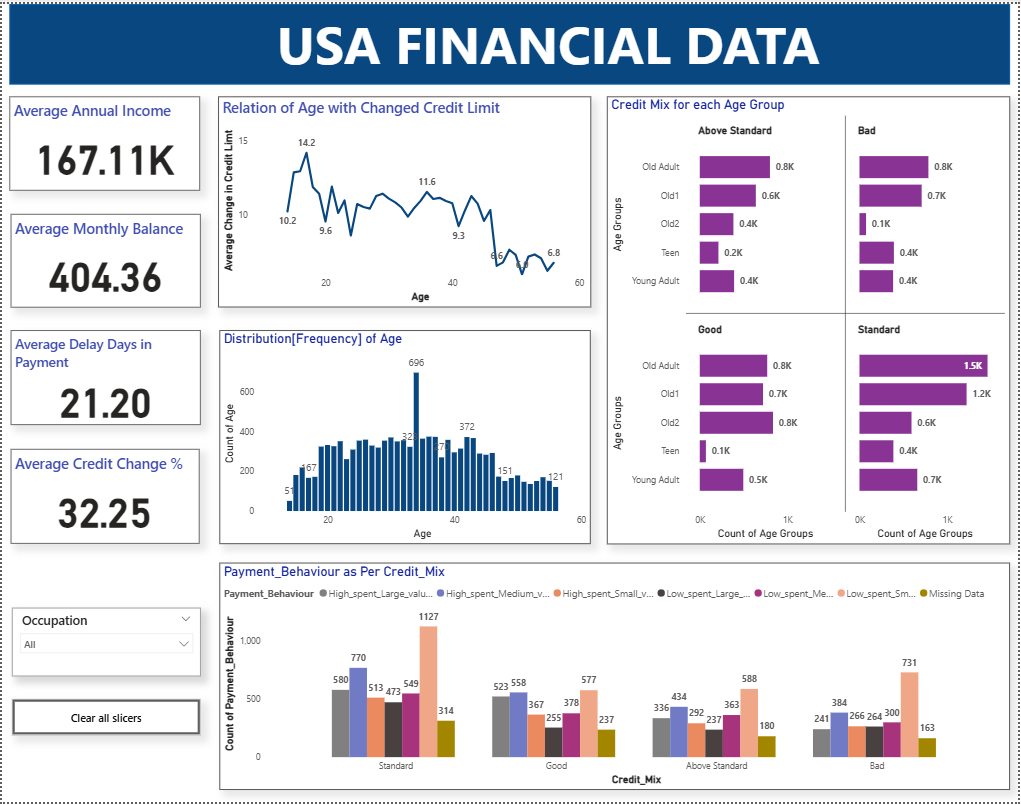

The page's visual inventory and layout, read from the dashboard file:
{"tool":"powerbi","page":{"name":"Page 1","canvas":[1400,1100],"ordinal":0},"visuals":[{"type":"shape","box":[10.8,0,1378.4,110.8],"z":0},{"type":"textbox","box":[374.3,0,790.5,110.8],"z":1000},{"type":"card","title":"Average Annual Income","fields":{"Values":["Avg(combined_df.Annual_Income)"]},"box":[10.8,127,262.2,129.7],"z":2000},{"type":"card","title":"Average Monthly Balance","fields":{"Values":["Avg(combined_df.Monthly_Balance)"]},"box":[11.2,288.9,261.6,128.9],"z":3000},{"type":"card","title":"Average Delay Days in Payment","fields":{"Values":["Avg(combined_df.Delay_from_due_date)"]},"box":[11.2,449.9,261.6,130.8],"z":4000},{"type":"card","title":"Average Credit Change %","fields":{"Values":["Avg(combined_df.Credit_Utilization_Ratio)"]},"box":[11.2,612.8,259.7,130.8],"z":5000},{"type":"lineChart","title":"Relation of Age with Changed Credit Limit","fields":{"Category":["combined_df.Age"],"Y":["Avg(combined_df.Changed_Credit_Limit)"]},"box":[298.1,126.9,513.5,290.4],"z":6000},{"type":"clusteredColumnChart","title":"Distribution[Frequency] of Age","fields":{"Category":["combined_df.Age"],"Y":["CountNonNull(combined_df.Age)"]},"box":[300,450,511.5,294.2],"z":7000},{"type":"clusteredBarChart","title":"Credit Mix for each Age Group","fields":{"Category":["combined_df.Age Groups"],"Y":["CountNonNull(combined_df.Age Groups)"],"Rows":["combined_df.Credit_Mix"]},"box":[833.3,127.8,555.6,616.7],"z":8000},{"type":"clusteredColumnChart","title":"Payment_Behaviour as Per Credit_Mix","fields":{"Category":["combined_df.Credit_Mix"],"Y":["CountNonNull(combined_df.Payment_Behaviour)"],"Series":["combined_df.Payment_Behaviour"]},"box":[300,769.1,1089.1,312.7],"z":9000},{"type":"slicer","fields":{"Values":["combined_df.Occupation"]},"box":[14.3,831.4,260,94.3],"z":10000},{"type":"actionButton","box":[14.3,957.1,260,50],"z":11000}]}

Visuals, with their boxes in screenshot pixels (x1, y1, x2, y2), scaled from the page's 1400x1100 canvas onto the 1021x805 screenshot:
shape: BBox(8, 0, 1013, 81)
textbox: BBox(273, 0, 849, 81)
"Average Annual Income" card: BBox(8, 93, 199, 188)
"Average Monthly Balance" card: BBox(8, 211, 199, 306)
"Average Delay Days in Payment" card: BBox(8, 329, 199, 425)
"Average Credit Change %" card: BBox(8, 448, 198, 544)
"Relation of Age with Changed Credit Limit" lineChart: BBox(217, 93, 592, 305)
"Distribution[Frequency] of Age" clusteredColumnChart: BBox(219, 329, 592, 545)
"Credit Mix for each Age Group" clusteredBarChart: BBox(608, 94, 1013, 545)
"Payment_Behaviour as Per Credit_Mix" clusteredColumnChart: BBox(219, 563, 1013, 792)
slicer - combined_df.Occupation: BBox(10, 608, 200, 677)
actionButton: BBox(10, 700, 200, 737)
